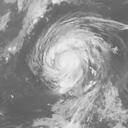cyclone: (28, 14, 108, 96)
